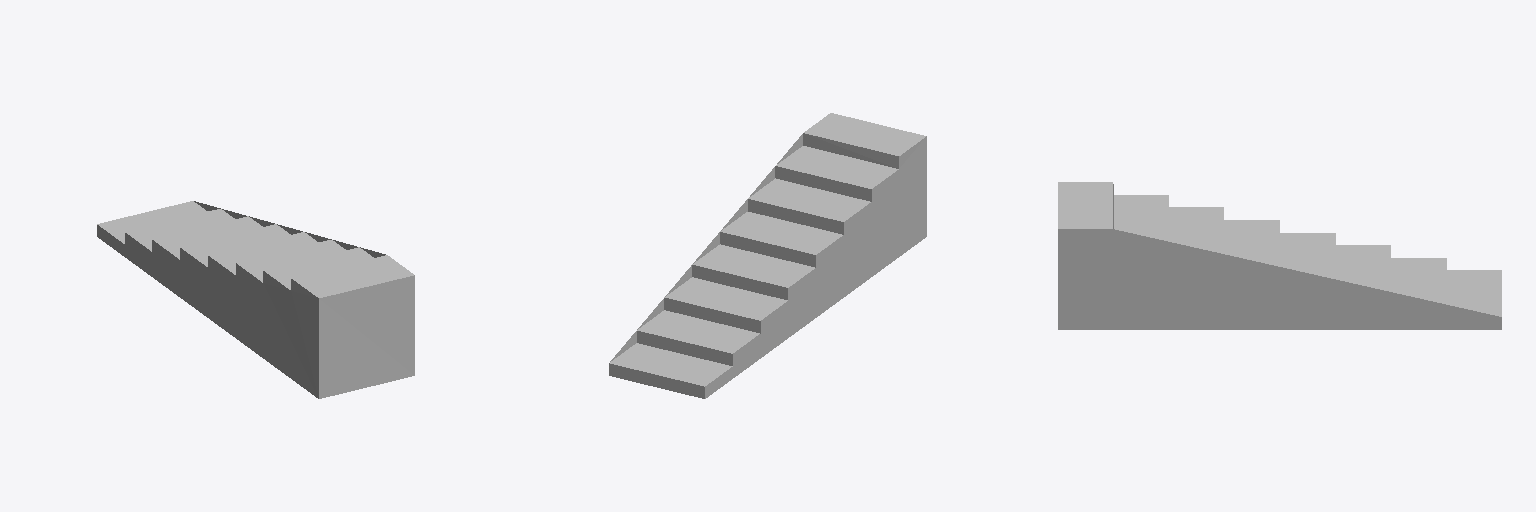
The model's file is staircase.obj.
3 renders of one model, left to right at view 1: azimuth 30°, elevation 25°; view 2: azimuth 150°, elevation 25°; view 3: azimuth 270°, elevation 25°, orthographic.
Visible parts, largest first — view 1: Cube_Cube.001; view 2: Cube_Cube.001; view 3: Cube_Cube.001.
Boxes of the visible parts, x1=… form: Cube_Cube.001: x1=97, y1=201, x2=414, y2=398; Cube_Cube.001: x1=609, y1=113, x2=926, y2=398; Cube_Cube.001: x1=1058, y1=182, x2=1501, y2=329.
Size of the model in its own units: 4 by 4 by 16.